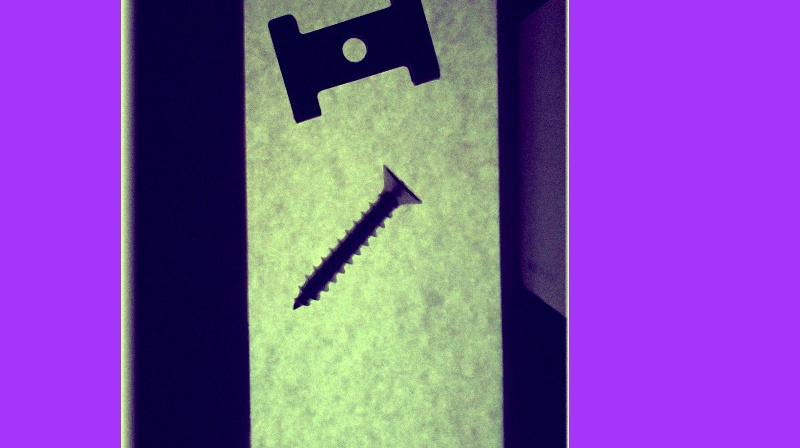O002: (267, 0, 441, 120)
S001: (288, 162, 420, 309)
